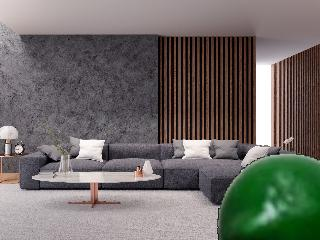lime: (218, 155, 319, 239)
